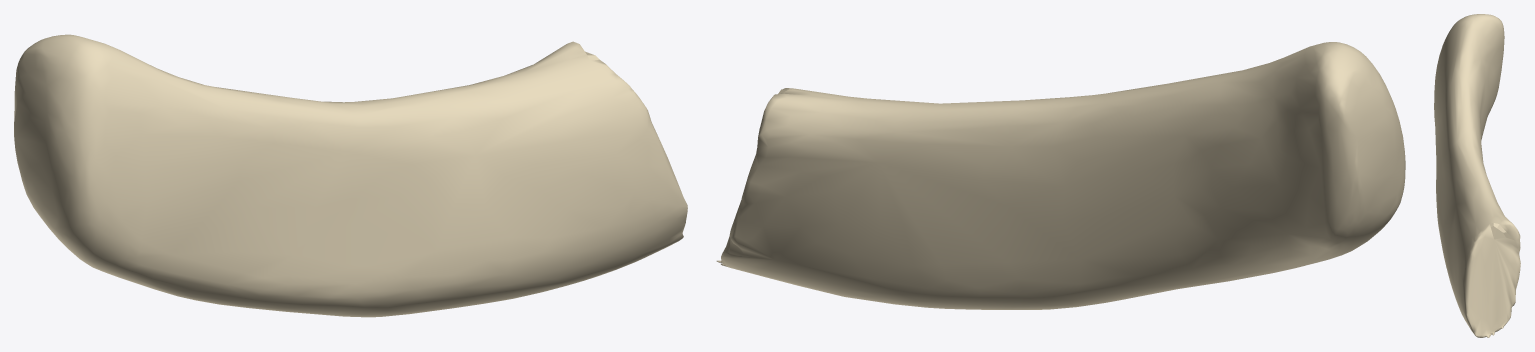
The model's file is esqueleto-costal-cartilage-of-fourth-rib-l.glb.
3 views of the same model, side by side, from view 1: azimuth 30°, elevation 25°; view 2: azimuth 150°, elevation 25°; view 3: azimuth 270°, elevation 25° (orthographic). The views are drawn at different scales.
Visible parts, largest first — view 1: Costal cartilage of fourth rib.l; view 2: Costal cartilage of fourth rib.l; view 3: Costal cartilage of fourth rib.l.
Boxes of the visible parts, <box> form: Costal cartilage of fourth rib.l: <box>14,34,687,317</box>; Costal cartilage of fourth rib.l: <box>716,42,1405,309</box>; Costal cartilage of fourth rib.l: <box>1434,14,1520,337</box>.
Size of the model in its own units: 0.0544 by 0.0289 by 0.0126.
